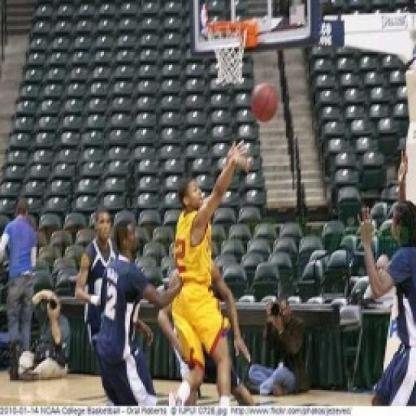basketball: (245, 75, 283, 127)
